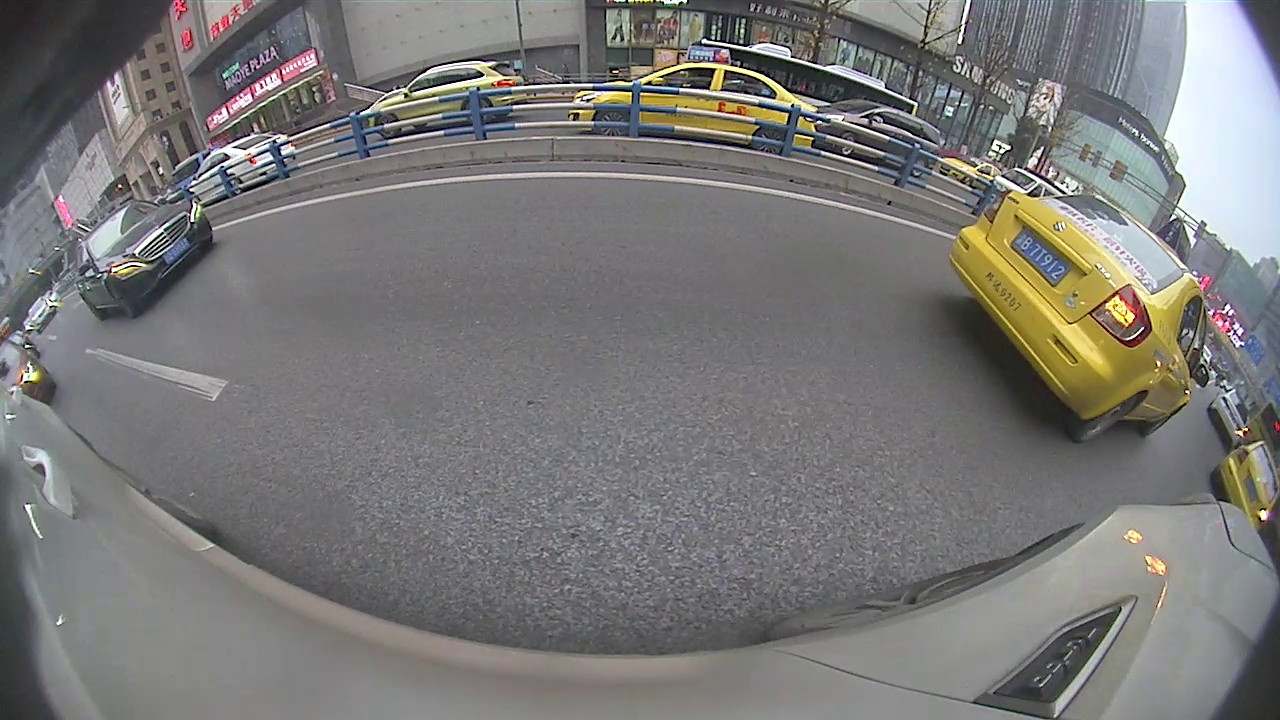car: (946, 187, 1211, 443), (566, 43, 821, 156), (72, 197, 213, 321), (355, 56, 531, 141), (805, 96, 947, 180), (184, 130, 297, 205)
front: (596, 103, 631, 139), (372, 111, 399, 139)
rear: (1077, 397, 1141, 441), (751, 123, 786, 156), (464, 94, 492, 126)
